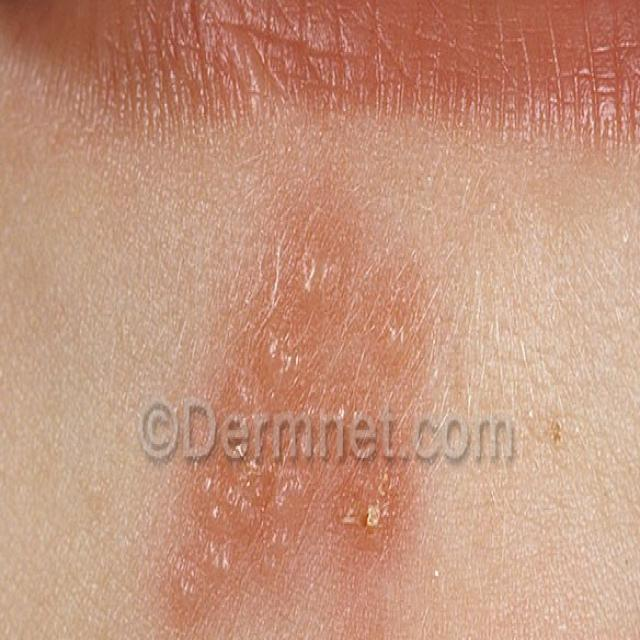Viral Infections: (169, 180, 418, 620)
